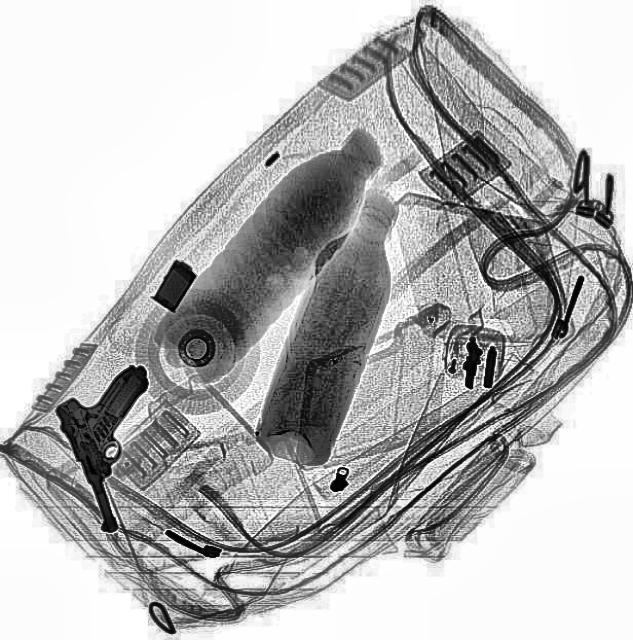Gun: (47, 360, 197, 538)
